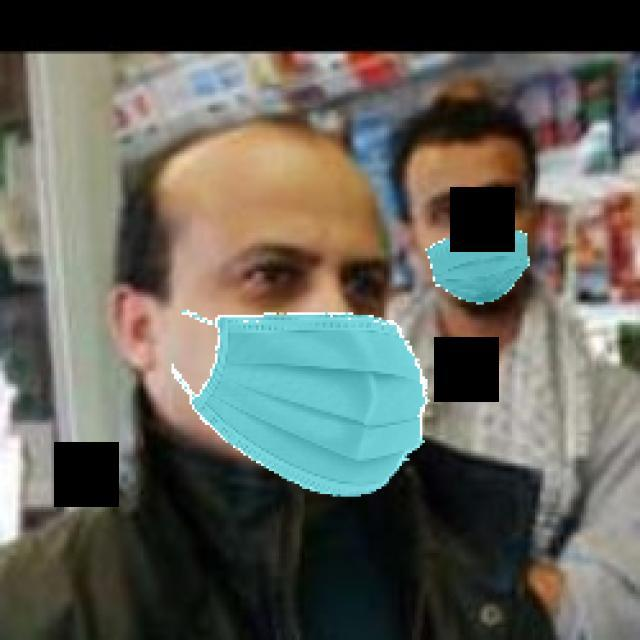surgical: (129, 186, 417, 504), (410, 156, 540, 314)
